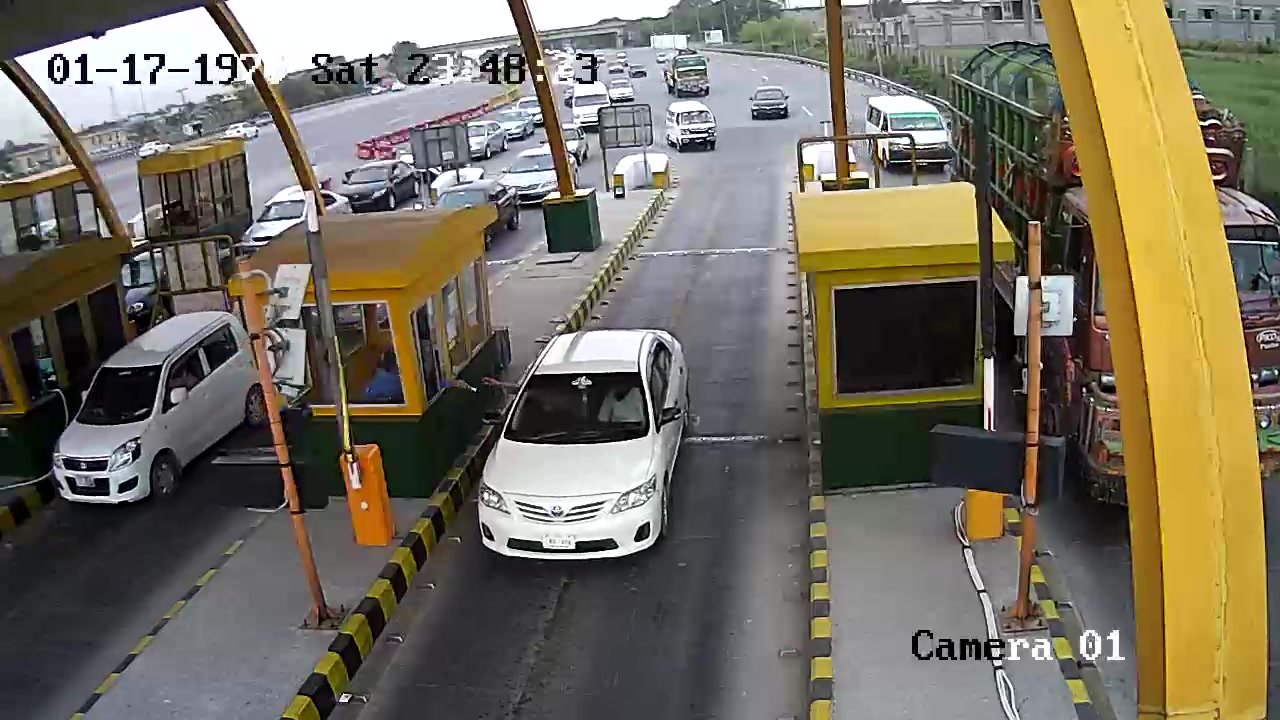F1: (471, 310, 704, 582)
